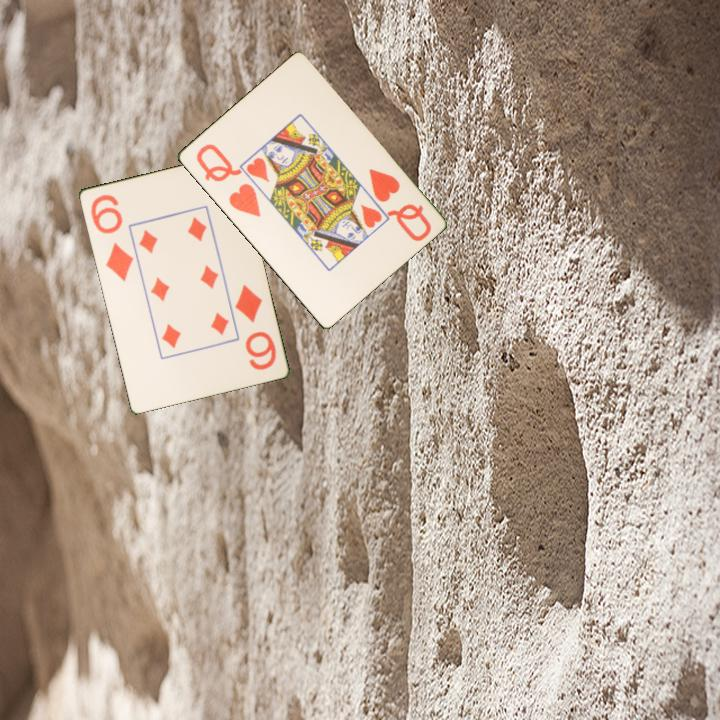6d: (87, 191, 136, 284), (231, 281, 279, 373)
Qh: (192, 140, 263, 220), (365, 165, 434, 244)
